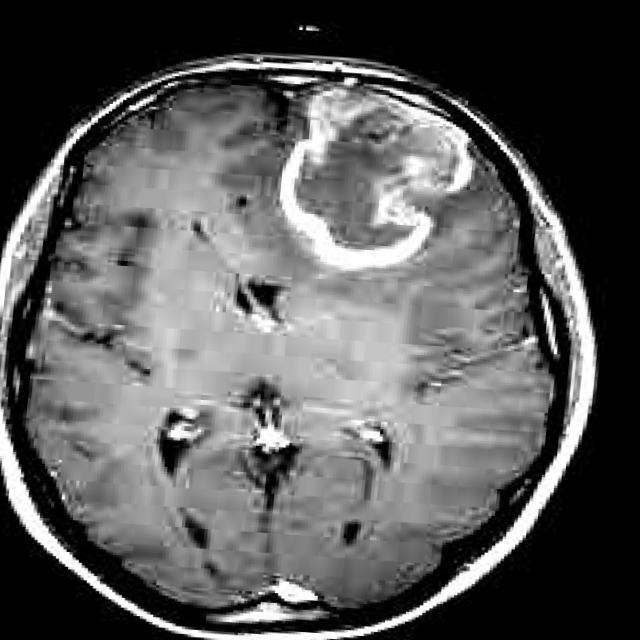Tumor: (286, 80, 482, 263)
